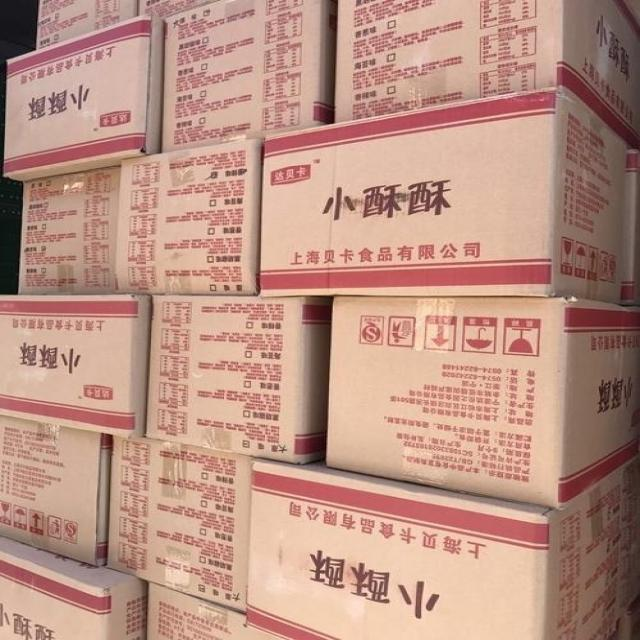box: (262, 82, 639, 304), (239, 457, 639, 639), (327, 293, 637, 507), (335, 0, 639, 150), (146, 295, 331, 466), (103, 432, 257, 611), (161, 0, 337, 152), (1, 19, 165, 182), (121, 133, 263, 294), (0, 292, 151, 435), (0, 416, 116, 568), (1, 536, 148, 639), (17, 167, 121, 295), (144, 583, 294, 639), (37, 0, 138, 48), (138, 0, 215, 20)
